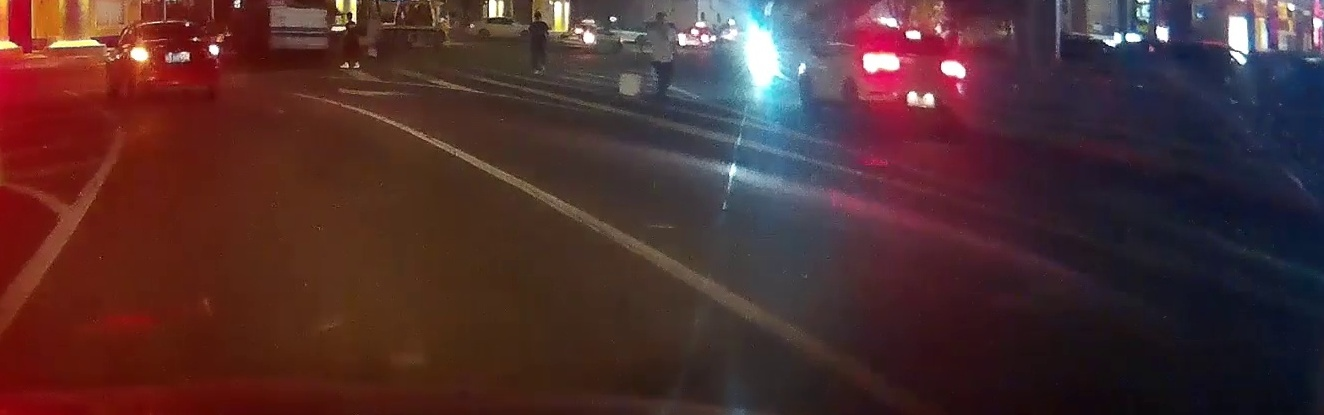L_light: (862, 54, 900, 72), (130, 48, 149, 60)
R_light: (941, 60, 967, 79), (204, 46, 221, 58)
T_light: (904, 32, 921, 38), (168, 24, 183, 28)
night-brake: (858, 24, 970, 127)
night-left: (126, 19, 223, 101)
